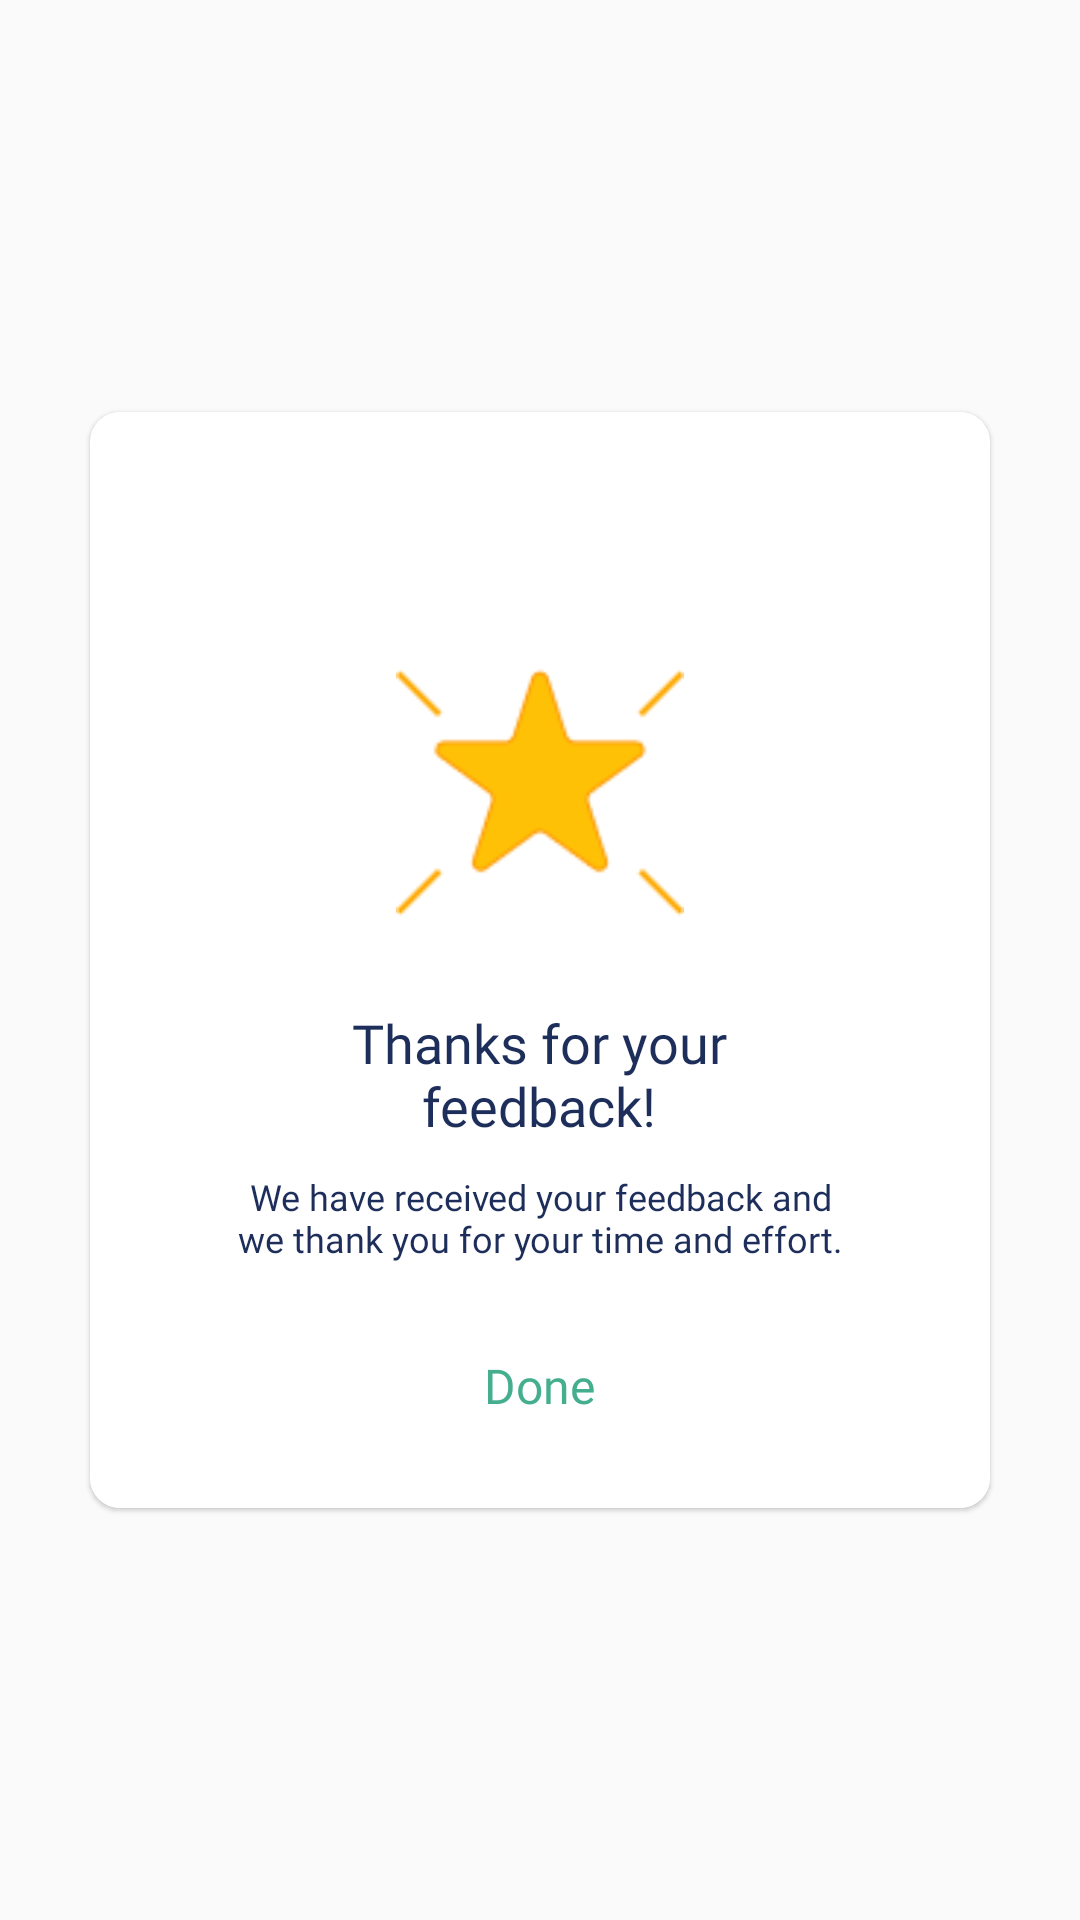

Icon bounding boxes for this 1080 × 1920 phone screenshot, format (x1,y1,x2,y2):
star: (396,669,684,916)
